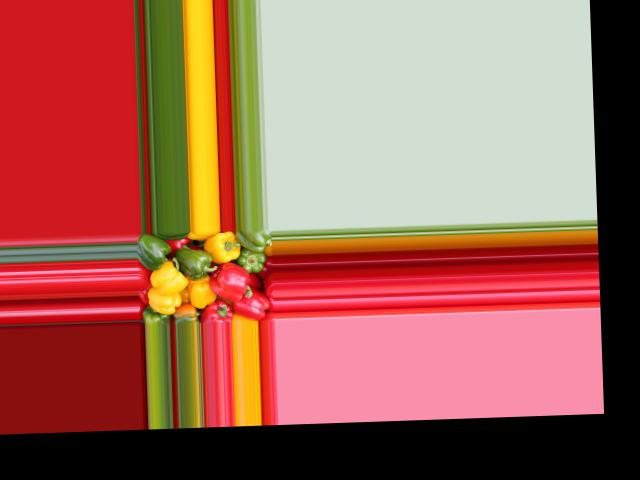bell_pepper: (143, 308, 174, 324)
